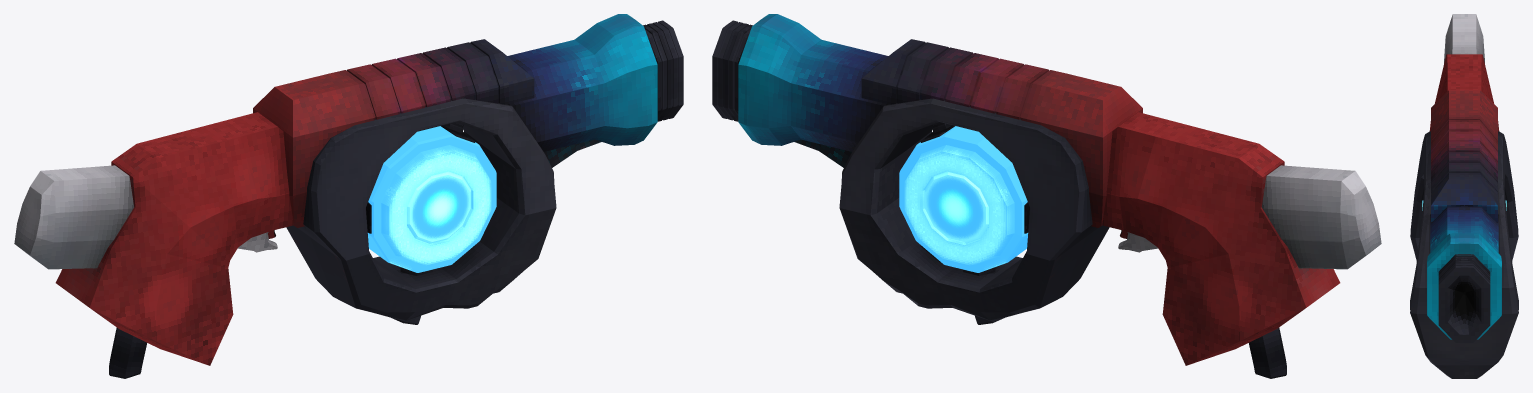
The model's file is splashblaster.glb.
3 views of the same model, side by side, from view 1: azimuth 30°, elevation 25°; view 2: azimuth 150°, elevation 25°; view 3: azimuth 270°, elevation 25° (orthographic). The views are drawn at different scales.
Parts seen in each view (by area): view 1: Splashblaster.Primary, Splashblaster.Can; view 2: Splashblaster.Primary, Splashblaster.Can; view 3: Splashblaster.Primary.
Boxes of the visible parts, left/top/right/bottom form: Splashblaster.Primary: left=14, top=14, right=683, bottom=378; Splashblaster.Can: left=367, top=126, right=496, bottom=272; Splashblaster.Primary: left=712, top=14, right=1381, bottom=378; Splashblaster.Can: left=899, top=126, right=1028, bottom=272; Splashblaster.Primary: left=1410, top=14, right=1518, bottom=378.
Size of the model in its own units: 1.4 by 0.5388 by 0.2442.
2 materials, 2 textured.
